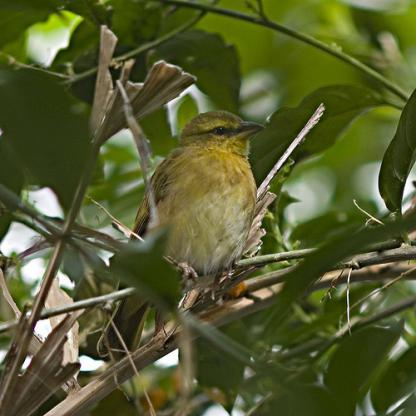bird: (95, 108, 269, 360)
